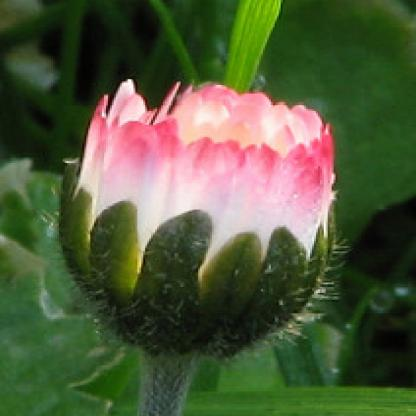ASTER: (34, 36, 358, 367)
